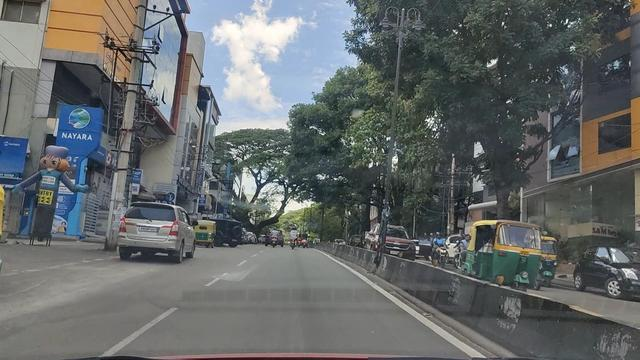LMV: (118, 203, 201, 266)
RoadDamages: (8, 269, 116, 320)
